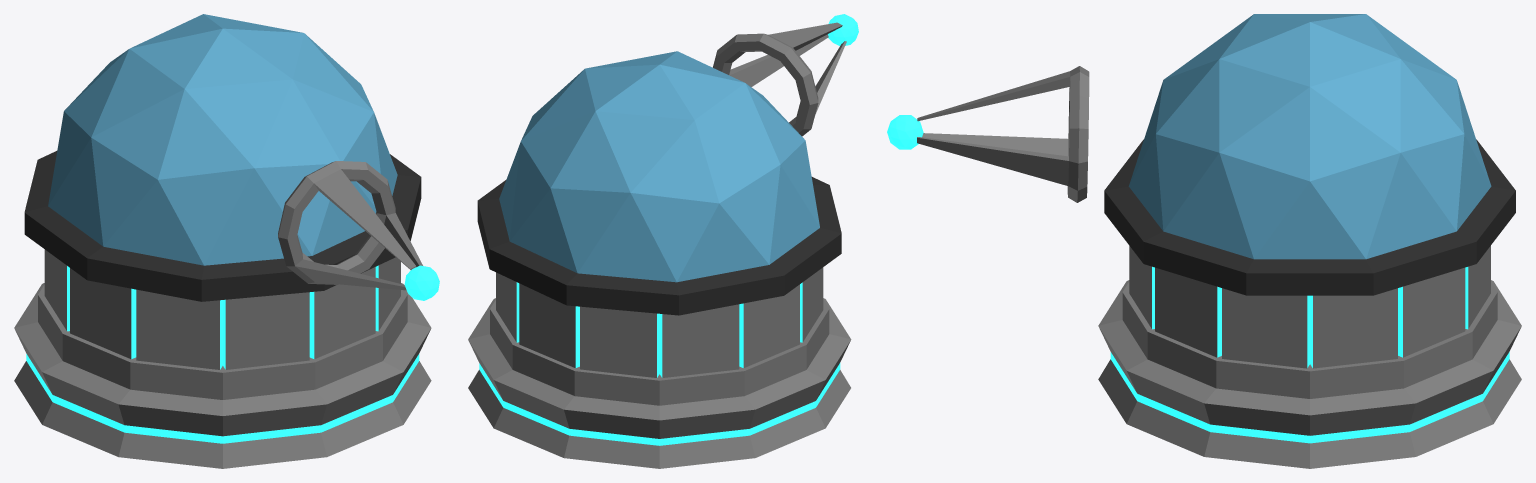
Rendered from zap.fbx.
3 views of the same model, side by side, from view 1: azimuth 30°, elevation 25°; view 2: azimuth 150°, elevation 25°; view 3: azimuth 270°, elevation 25° (orthographic). The views are drawn at different scales.
Parts seen in each view (by area): view 1: zapBody, zapBase, zapFocus; view 2: zapBody, zapBase, zapFocus; view 3: zapBody, zapBase, zapFocus.
Part boxes in pixels (left/top/right/bottom): zapBody: left=24, top=14, right=421, bottom=369; zapBase: left=14, top=283, right=431, bottom=468; zapFocus: left=278, top=161, right=439, bottom=300; zapBody: left=477, top=51, right=841, bottom=377; zapBase: left=468, top=298, right=851, bottom=468; zapFocus: left=713, top=14, right=858, bottom=136; zapBody: left=1104, top=14, right=1515, bottom=368; zapBase: left=1098, top=280, right=1521, bottom=468; zapFocus: left=887, top=66, right=1089, bottom=202.
Bounding box in the file's own units: 200 × 186 × 300.
